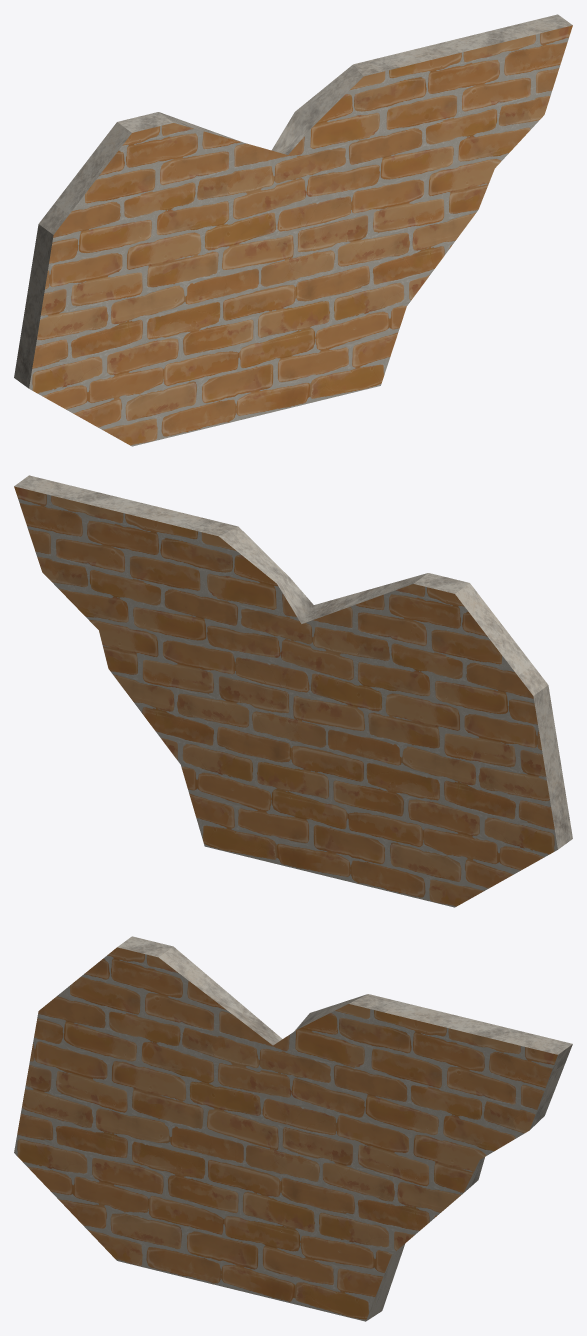
The model's file is OldRuins_V4.fbx.
3 views of the same model, one above another, from view 1: azimuth 30°, elevation 25°; view 2: azimuth 150°, elevation 25°; view 3: azimuth 330°, elevation 25° (orthographic).
Parts seen in each view (by area): view 1: OldRuins_V4; view 2: OldRuins_V4; view 3: OldRuins_V4.
Boxes of the visible parts, box(x1,y1,x2,y2) form: OldRuins_V4: box(14, 14, 572, 446); OldRuins_V4: box(14, 475, 572, 907); OldRuins_V4: box(14, 936, 572, 1321).
Size of the model in its own units: 1090 by 601 by 52.21.
Materials: 2 (2 with a texture image).
